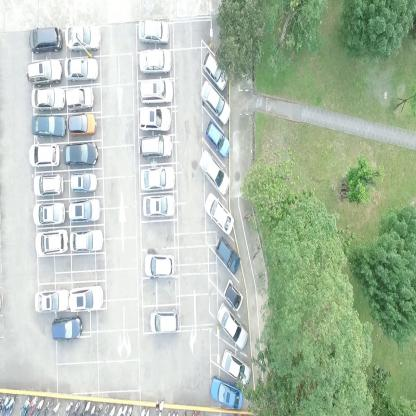car: (215, 302, 248, 350), (198, 150, 230, 197), (199, 80, 231, 124), (204, 190, 235, 235), (220, 348, 252, 387), (207, 376, 242, 410), (202, 51, 229, 91), (25, 57, 62, 86), (65, 23, 101, 52), (203, 119, 230, 157), (34, 227, 68, 257), (28, 25, 63, 54), (34, 286, 70, 314), (63, 55, 99, 83), (214, 237, 241, 273), (139, 166, 176, 192), (68, 284, 104, 310), (138, 78, 174, 103), (63, 142, 99, 167), (143, 251, 175, 279), (68, 197, 101, 224), (138, 18, 169, 46), (30, 86, 66, 110), (138, 106, 171, 132), (69, 228, 104, 252), (140, 49, 172, 75), (148, 308, 180, 334), (33, 201, 65, 227), (28, 143, 60, 169), (138, 135, 172, 159), (52, 316, 83, 342), (31, 115, 66, 138), (32, 173, 64, 198), (142, 195, 176, 218), (65, 85, 94, 111), (222, 279, 244, 313), (66, 113, 98, 135), (70, 171, 98, 194)
